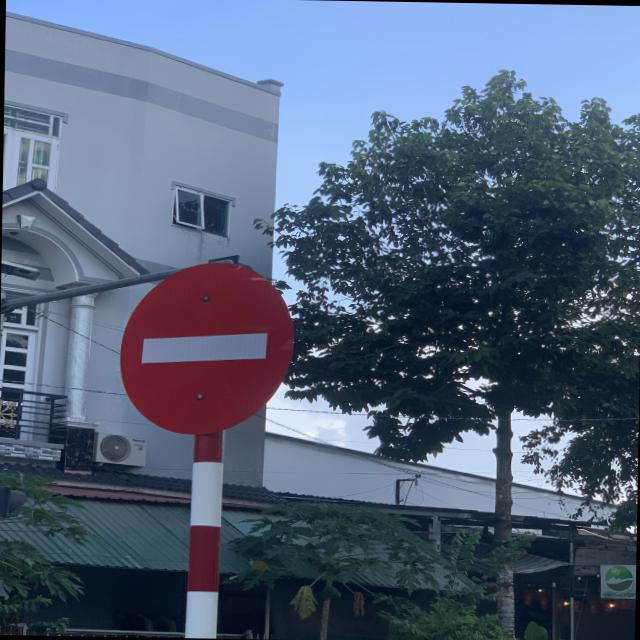Cam_Di_Nguoc_Chieu: (118, 256, 296, 440)
